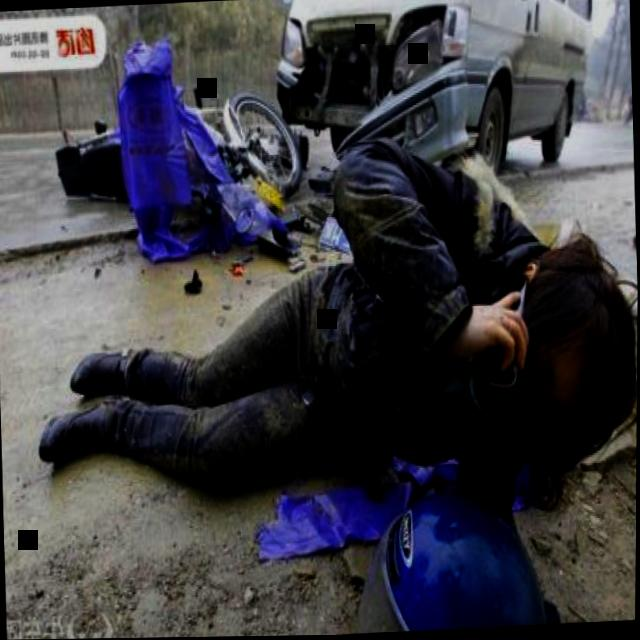Fall-Detected: (24, 126, 639, 513)
